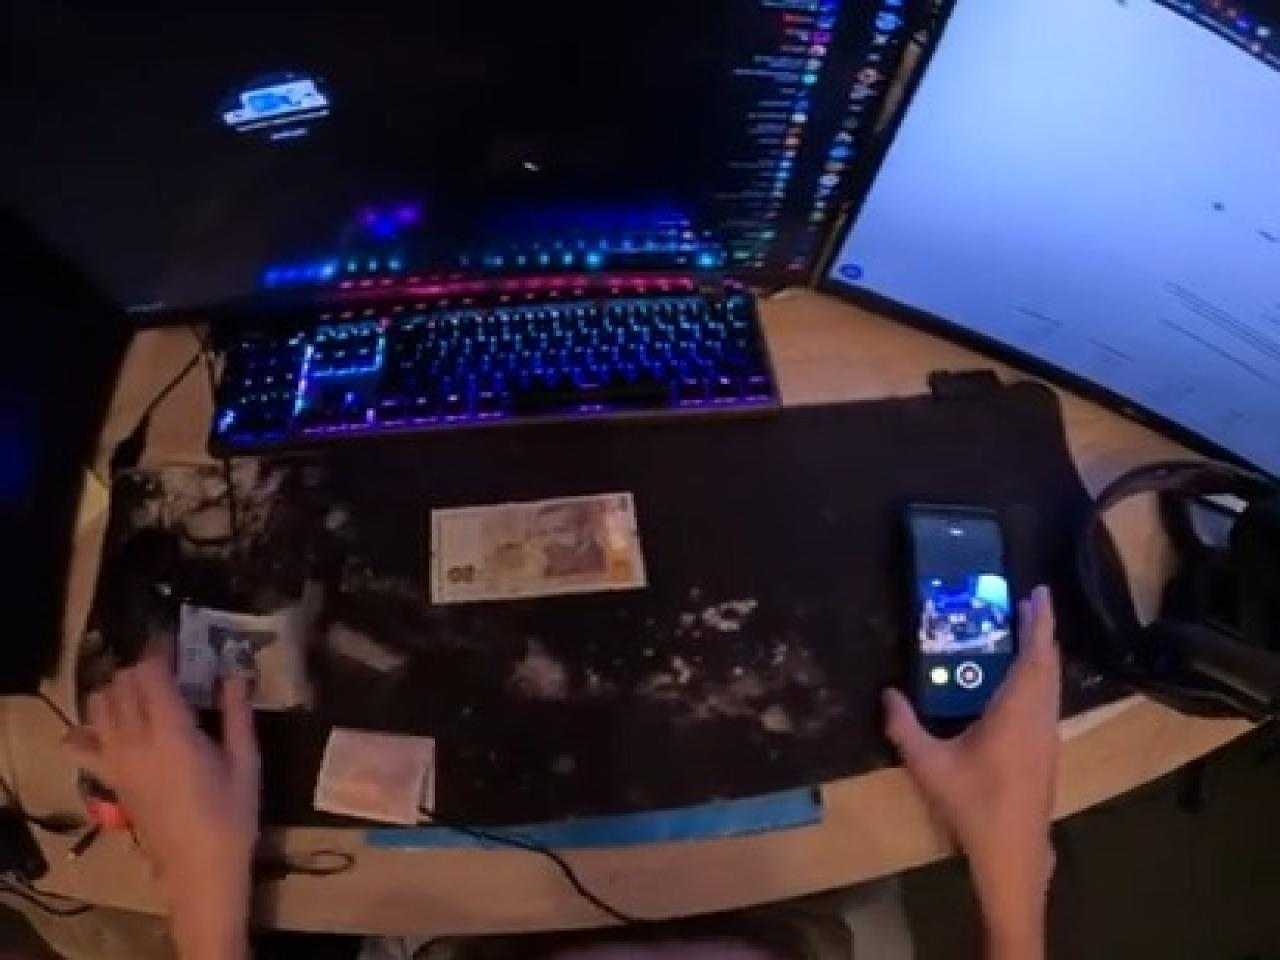50leva: (425, 491, 652, 611)
